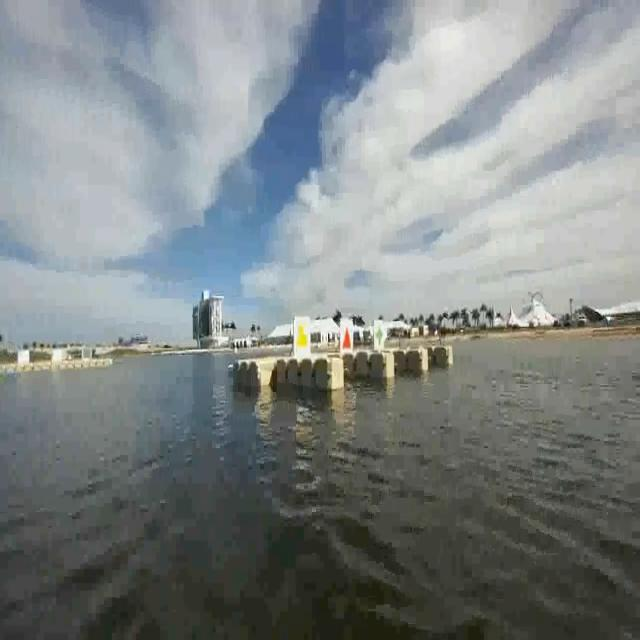blue-cross: (374, 319, 388, 352)
red-dot: (338, 317, 354, 353)
yellow-duck: (295, 317, 310, 355)
